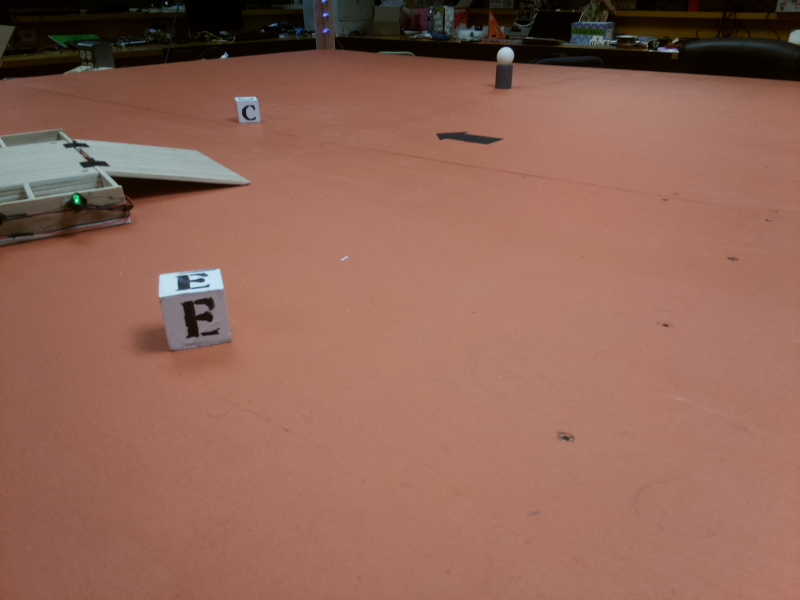blockC: (235, 97, 265, 123)
blockE: (159, 268, 234, 353)
corner: (313, 1, 339, 50)
obstacle: (494, 48, 516, 92)
side: (3, 177, 139, 248)
slope: (83, 133, 252, 195)
start: (436, 128, 507, 152)
